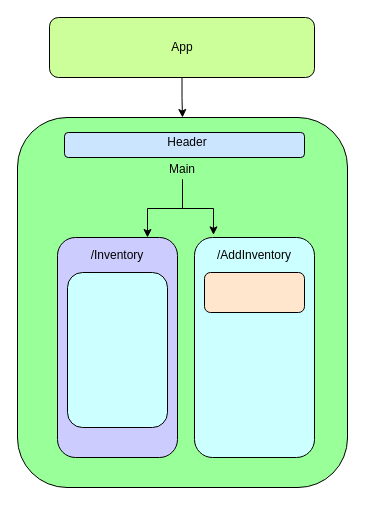
Image size: 365x505. Some labels were removed from this diagram. Here are the shapes that lost their labels. From the top down, the centre of each, then its label:
At (254,292): "Add Coffee".
At (117,350): "Coffee name, tasting notes, price".
